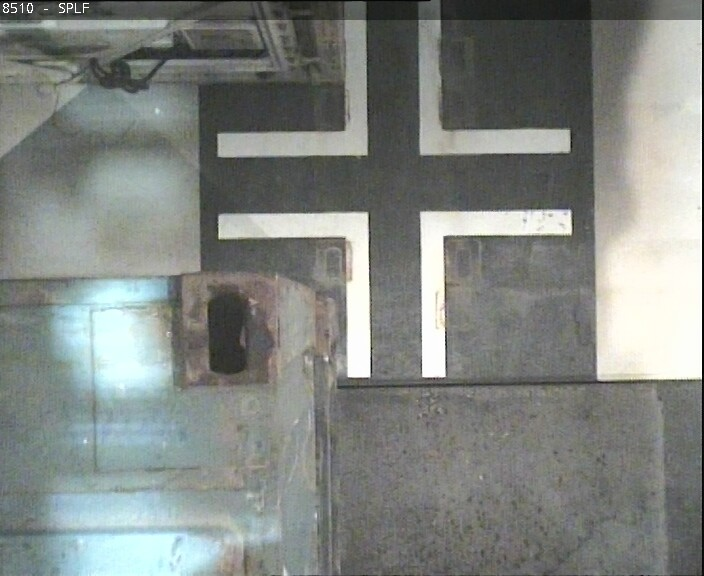groundmarker_1: (218, 206, 571, 378), (215, 1, 571, 160)
